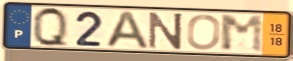2: (71, 8, 107, 48)
A: (102, 10, 152, 51)
M: (219, 14, 267, 54)
N: (147, 11, 185, 51)
O: (185, 14, 223, 51)
Q: (31, 5, 71, 50)
